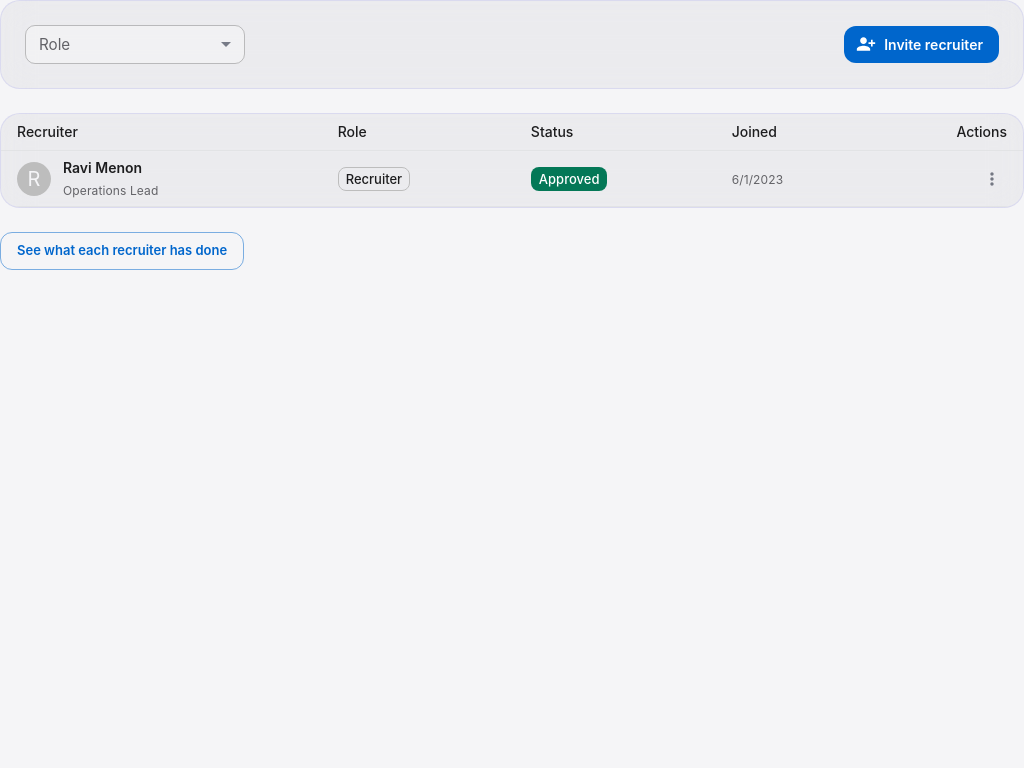
it: the recruiter roster › closes a confirmation with Escape and returns focus to what opened it
Click the button named "Actions for Ravi Menon": click(992, 178) left=977, top=164, right=1007, bottom=194
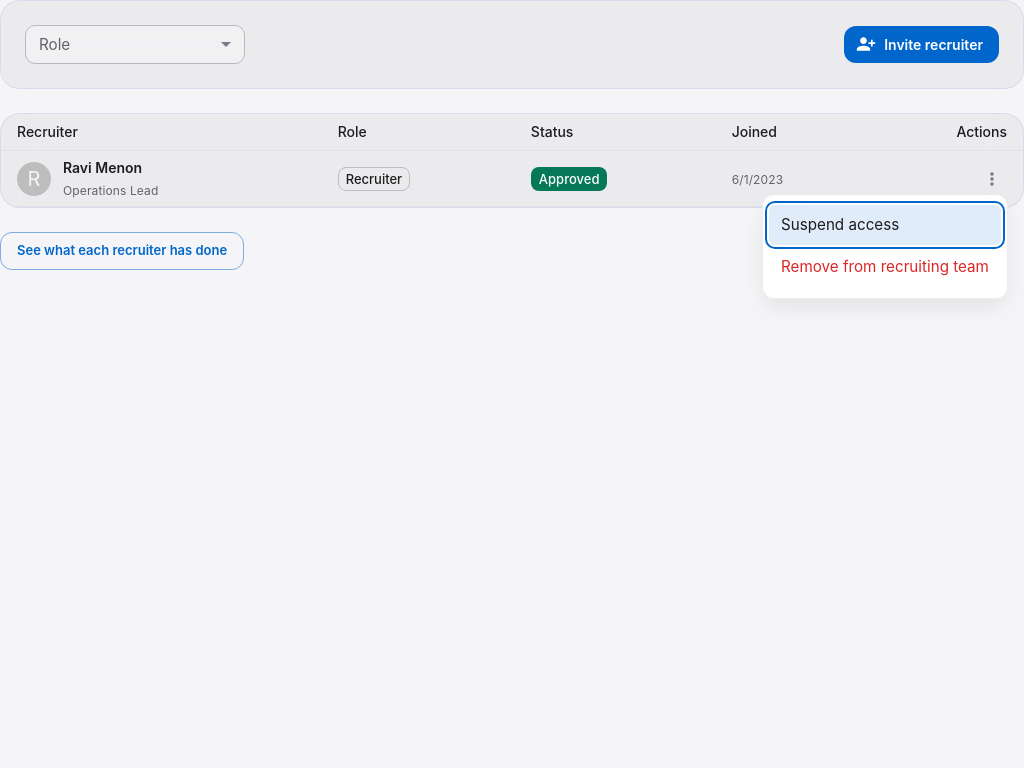
Click the menu item "Remove from recruiting team": click(885, 267) left=781, top=257, right=989, bottom=276
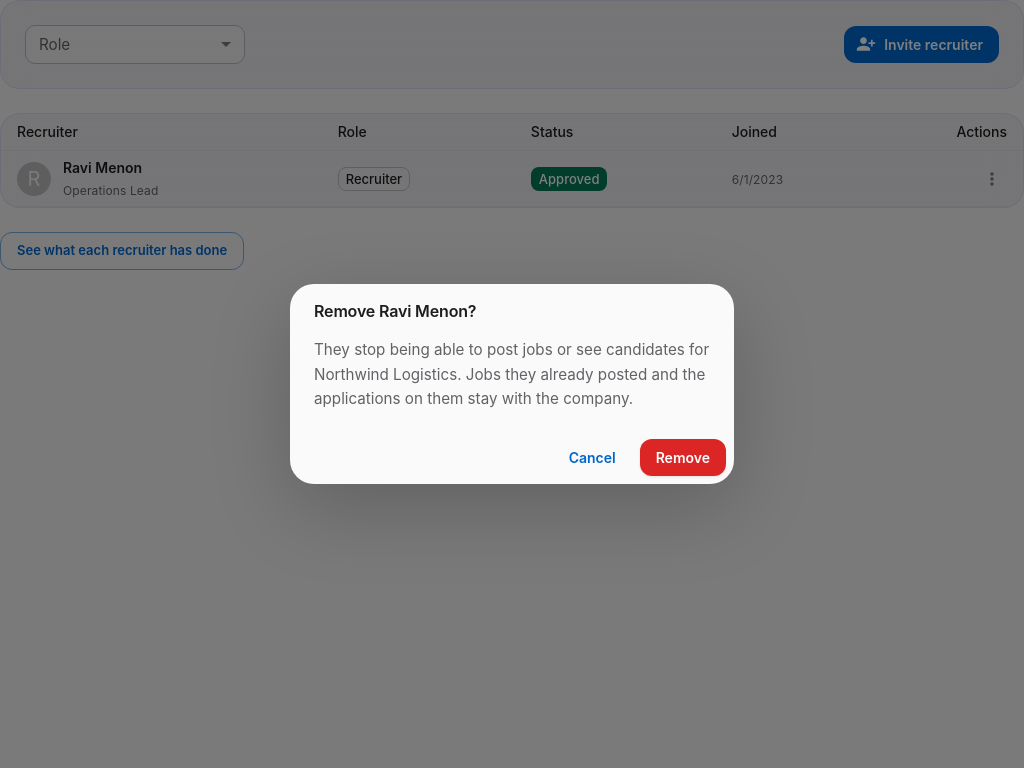
Press Escape
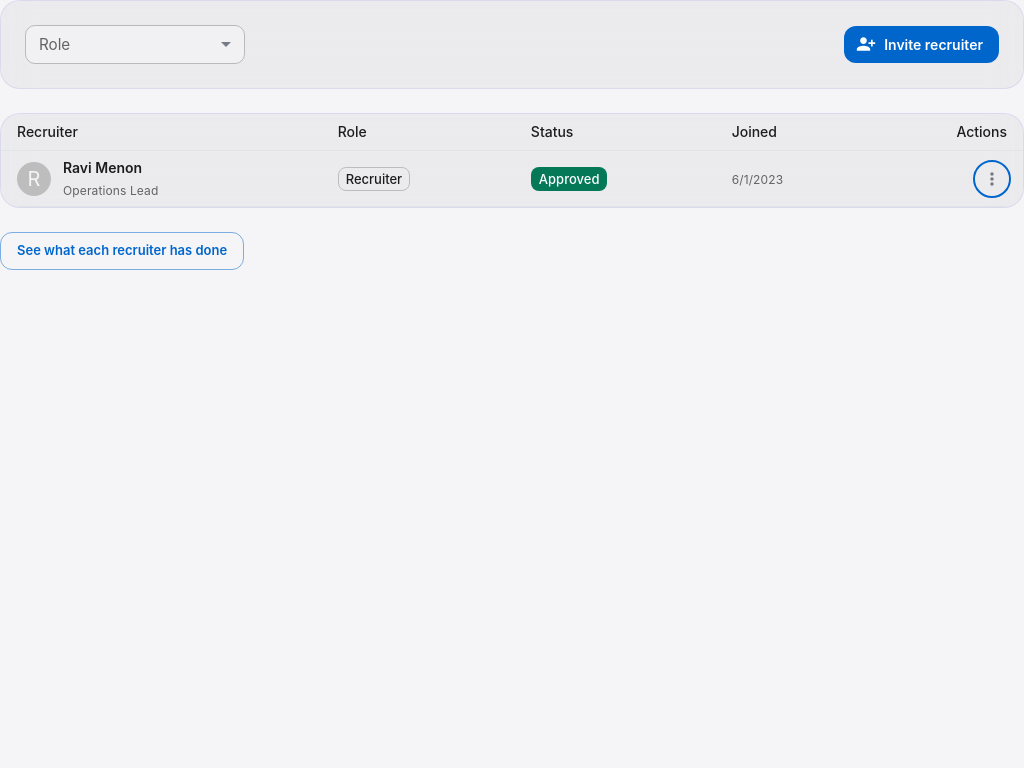
Expected: the dialog is gone
